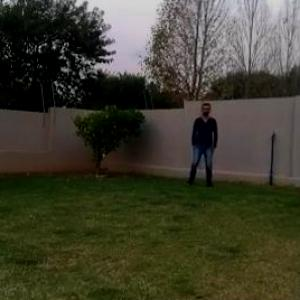follow: (196, 105, 215, 179)
